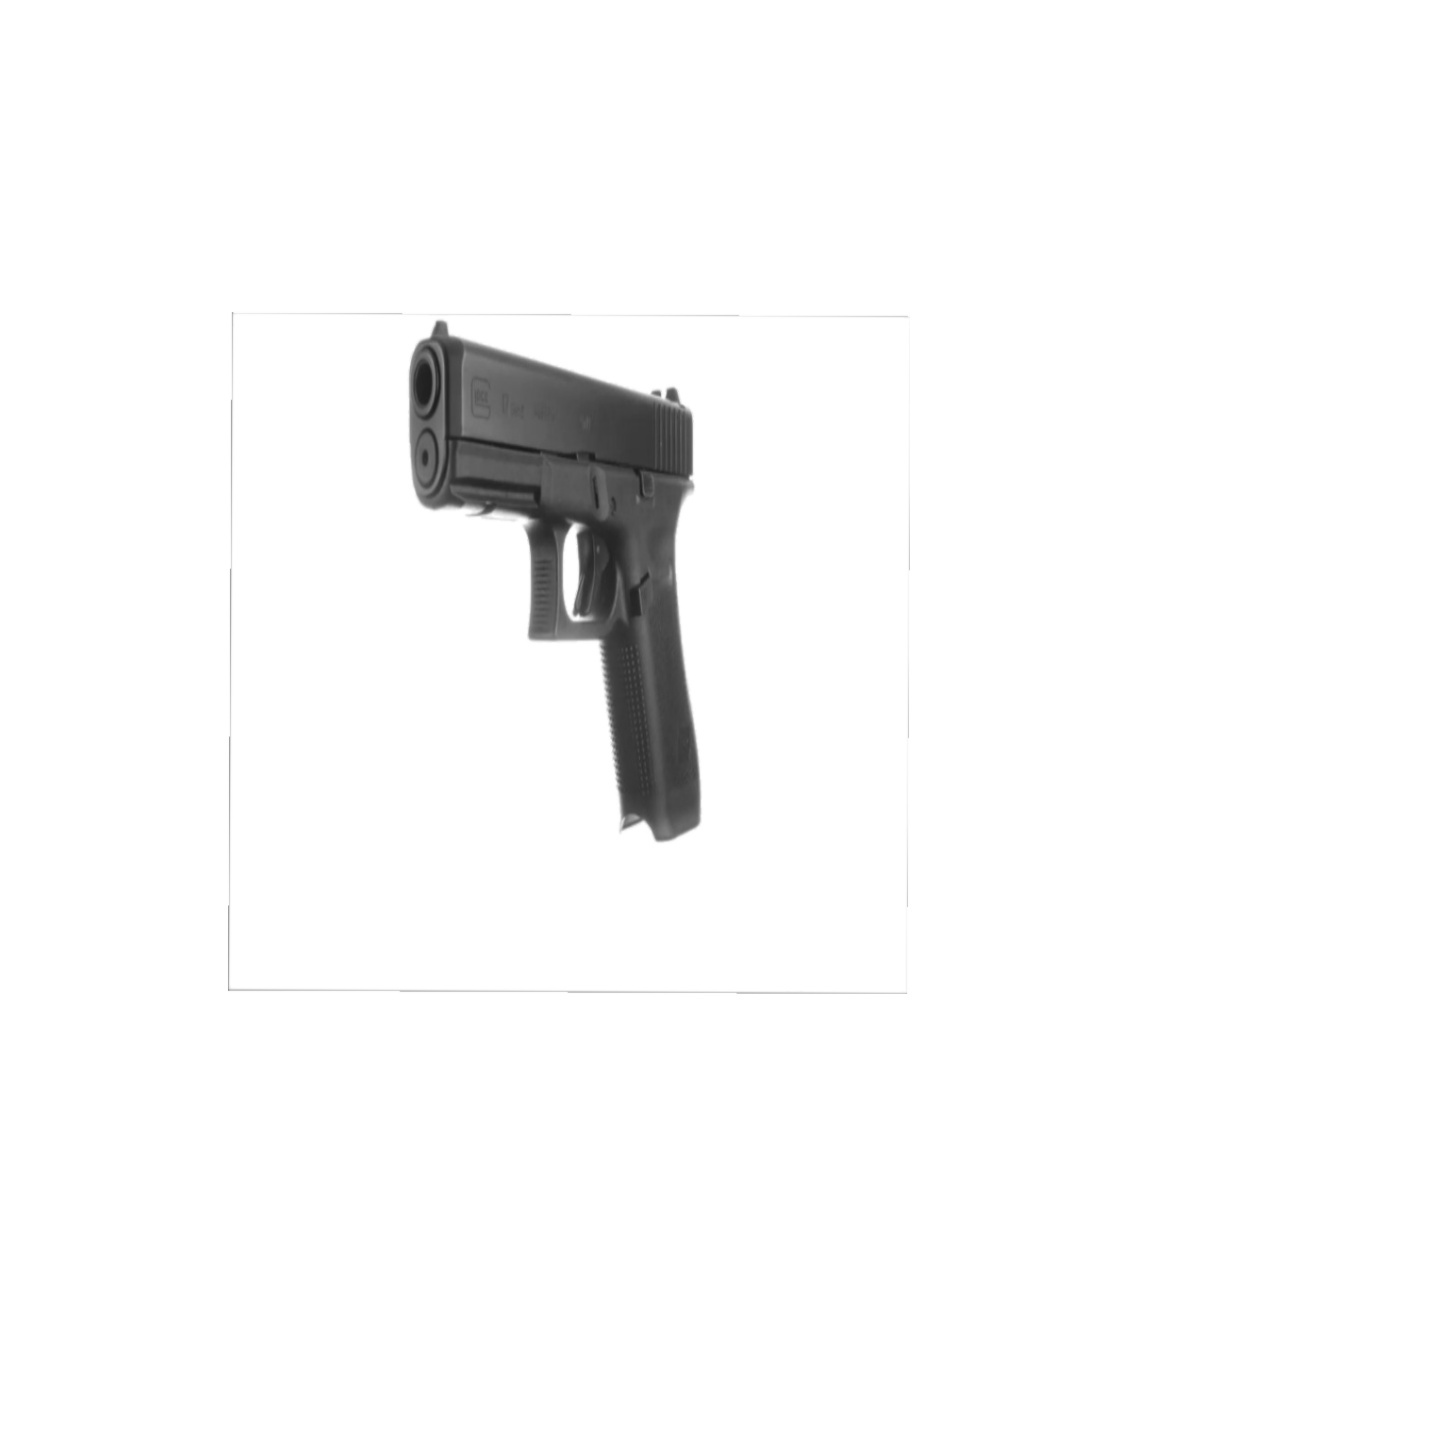gun: (406, 321, 710, 845)
